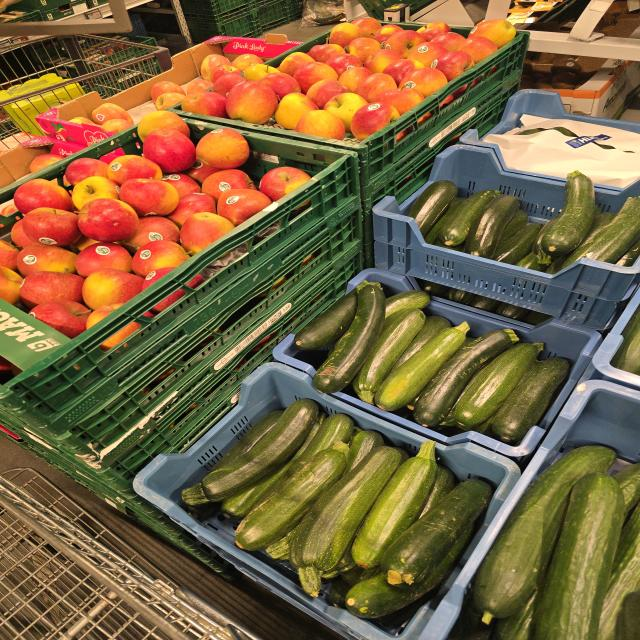Apple: (78, 198, 139, 241), (29, 300, 91, 338), (20, 271, 85, 307), (225, 80, 278, 124), (180, 212, 234, 255), (21, 208, 82, 246), (119, 178, 179, 216), (196, 128, 250, 170), (121, 216, 180, 254), (143, 130, 196, 172), (131, 240, 190, 277), (13, 179, 72, 214), (217, 189, 271, 226), (17, 244, 76, 277), (75, 243, 132, 277), (323, 92, 368, 132), (259, 167, 311, 201), (202, 169, 256, 201), (138, 110, 189, 142), (275, 93, 318, 130), (295, 110, 345, 140), (293, 62, 338, 93), (468, 19, 516, 48), (429, 51, 472, 82), (374, 89, 424, 115), (353, 73, 397, 102), (181, 90, 226, 118), (306, 80, 349, 109), (64, 158, 108, 186), (260, 72, 301, 99), (383, 60, 424, 87), (458, 37, 497, 64), (407, 42, 448, 67), (346, 37, 381, 64), (328, 23, 365, 48), (326, 54, 363, 75), (151, 81, 185, 102), (154, 92, 186, 111)
Courgette: (472, 447, 615, 620), (290, 446, 407, 594), (534, 472, 625, 640), (182, 399, 319, 506), (381, 479, 492, 585), (235, 448, 347, 550), (351, 441, 438, 569), (413, 329, 519, 427), (375, 322, 470, 411), (313, 283, 385, 393), (451, 342, 543, 428), (490, 358, 569, 444), (354, 309, 425, 404), (558, 197, 640, 271), (540, 171, 595, 255), (294, 289, 358, 350), (440, 190, 501, 247), (465, 195, 519, 258), (404, 180, 458, 239)
